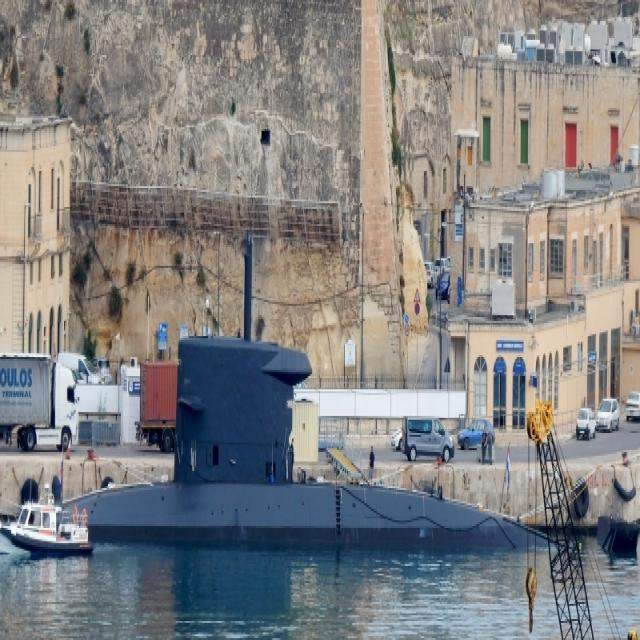submarine: (46, 335, 555, 548)
